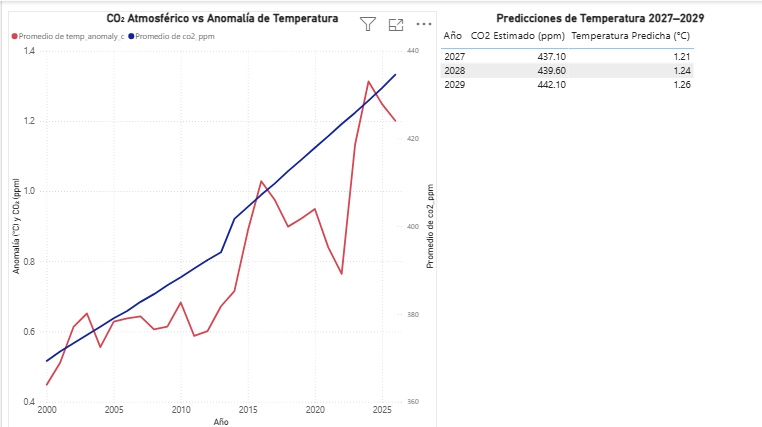

This screenshot's page, from the dashboard's own definition file:
{"tool":"powerbi","page":{"name":"CO₂ y Predicción","canvas":[1280,720],"ordinal":2},"visuals":[{"type":"lineChart","title":"CO₂ Atmosférico vs Anomalía de Temperatura","fields":{"Category":["temp_global_clean.year"],"Y":["Avg(temp_global_clean.temp_anomaly_c)"],"Y2":["Avg(temp_global_clean.co2_ppm)"]},"box":[10.1,16.8,720.6,703.8],"z":0},{"type":"tableEx","title":"Predicciones de Temperatura 2027–2029","fields":{"Values":["Predicciones.Año","Predicciones.CO2 Estimado (ppm)","Predicciones.Temperatura Predicha (°C)"]},"box":[730.7,16.8,549.3,703.8],"z":1}]}

Visuals, with their boxes in screenshot pixels (x1, y1, x2, y2), scaled from the page's 1280x720 canvas onto the 762x427 screenshot:
"CO₂ Atmosférico vs Anomalía de Temperatura" lineChart: locate(6, 10, 435, 426)
"Predicciones de Temperatura 2027–2029" tableEx: locate(435, 10, 761, 426)
